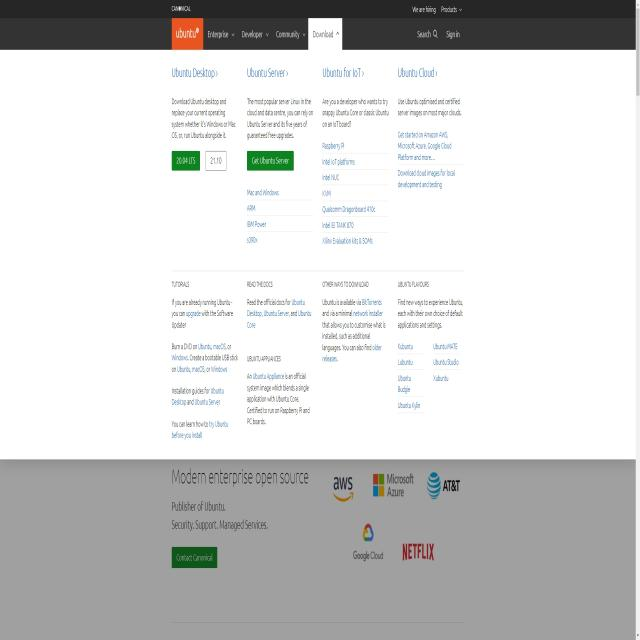menu-bar: (406, 3, 462, 49)
menu-panel: (171, 62, 473, 456)
tab-bar: (197, 13, 342, 50)
